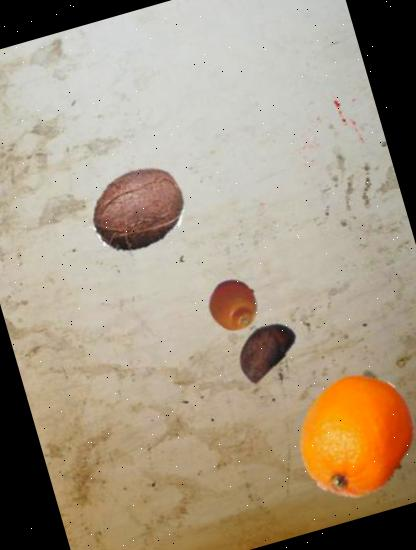Chestnut: (223, 306, 306, 391)
Cocos: (81, 152, 200, 272)
Lemon: (278, 357, 416, 513)
Tangelo: (200, 272, 266, 337)
